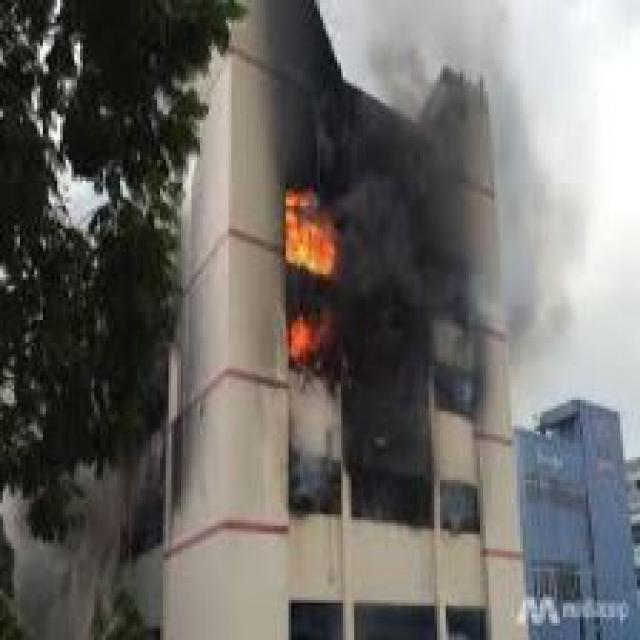fire: (277, 180, 372, 383)
